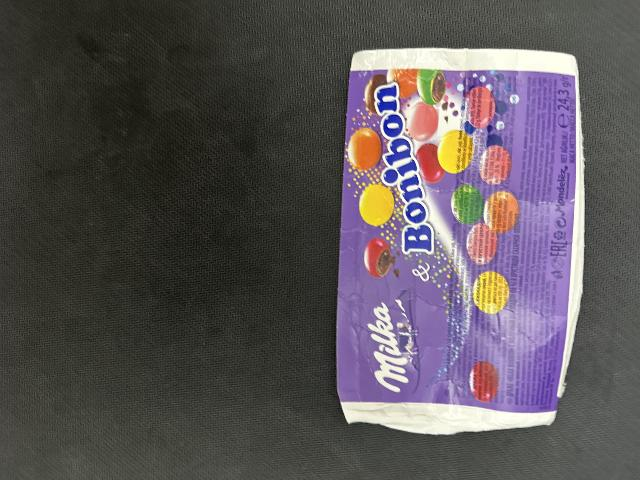Kagit: (332, 41, 594, 440)
